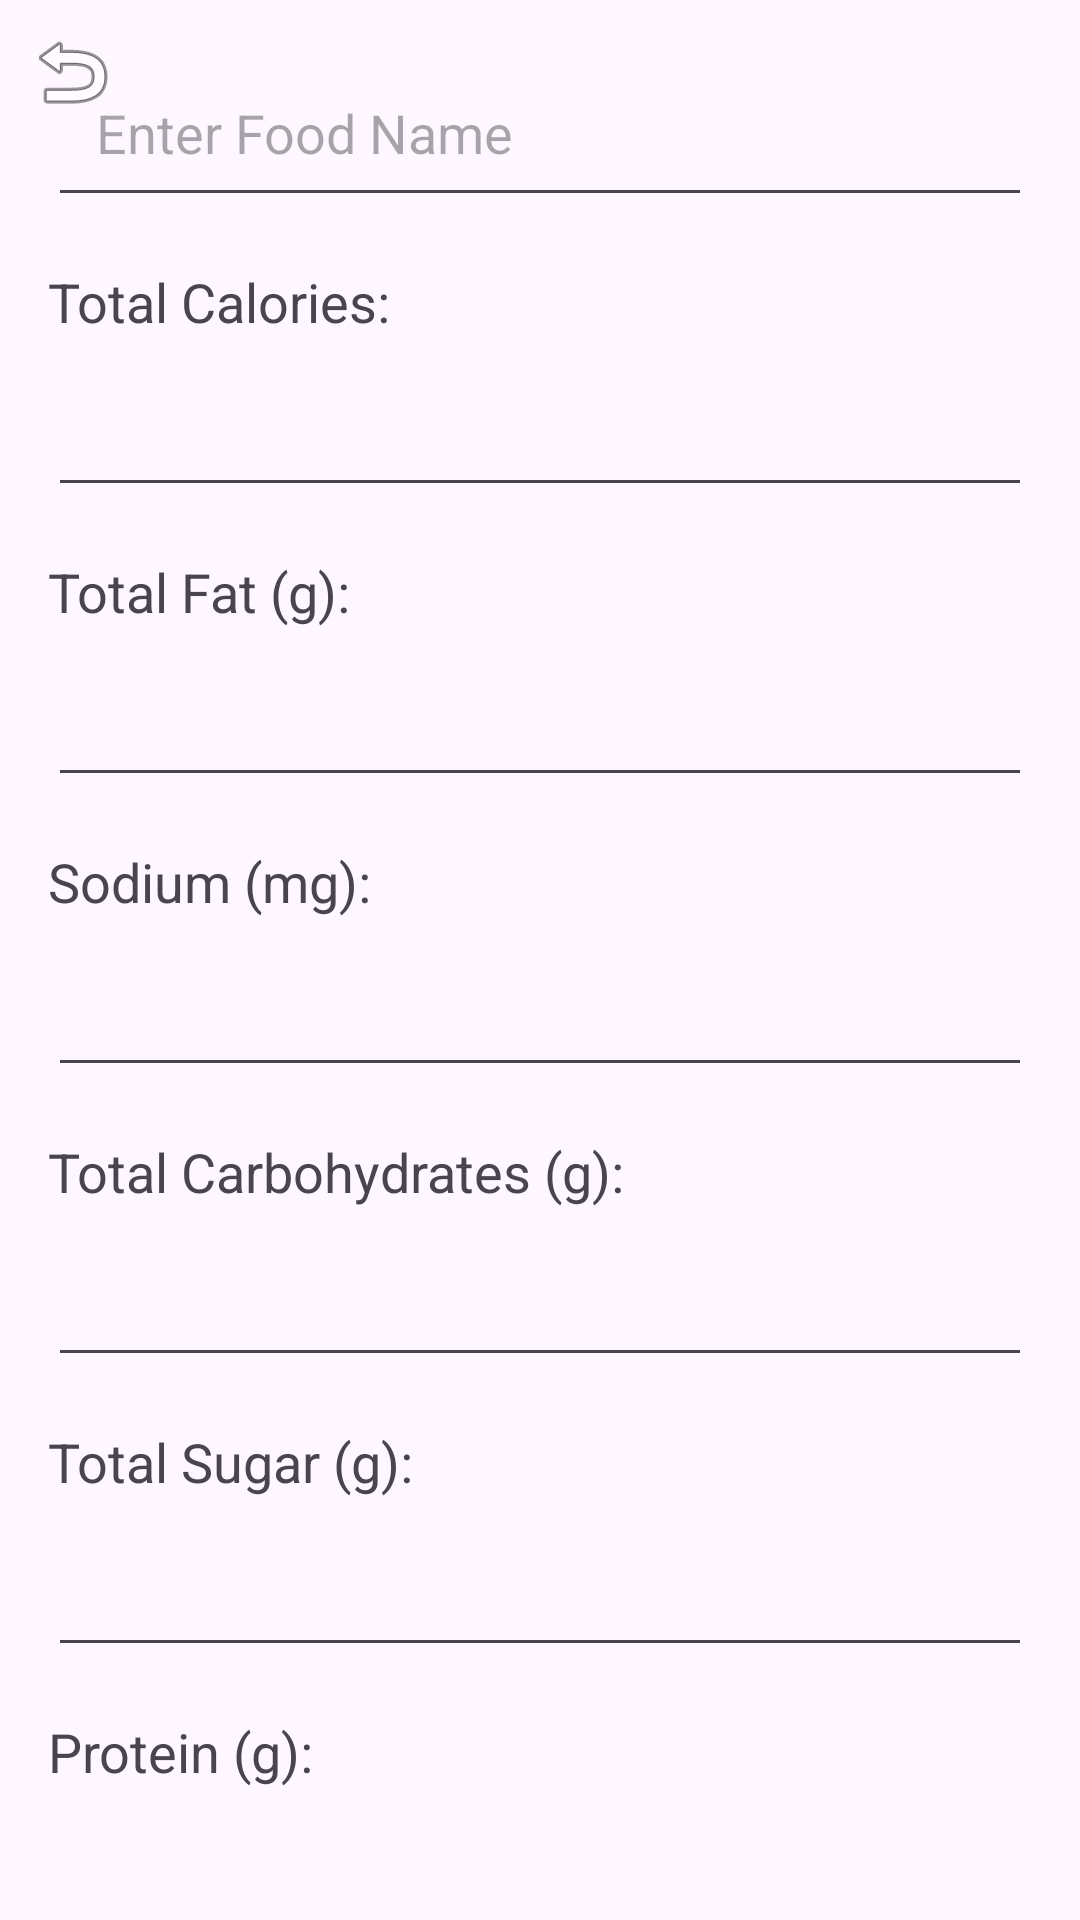

Icons on this 1080px x 1920px Android screen, each with its box as box=[x1, y1, x2, y2]:
Back: box=[39, 41, 108, 104]
